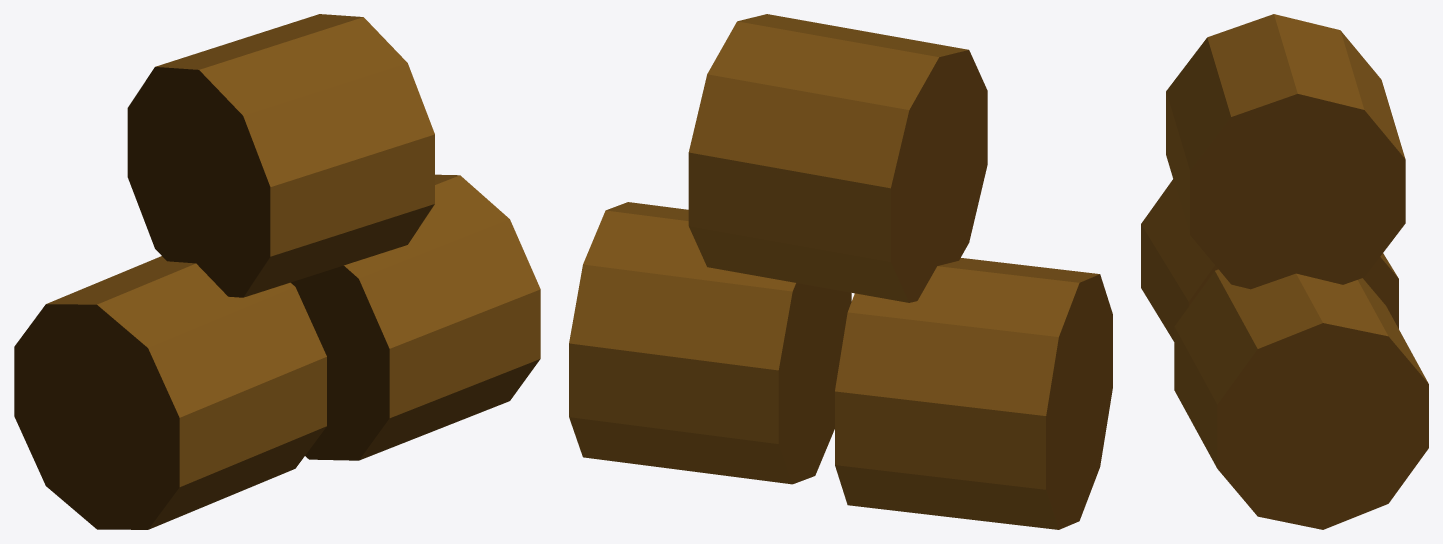
Rendered from hay_bales.fbx.
3 renders of one model, left to right at view 1: azimuth 30°, elevation 25°; view 2: azimuth 150°, elevation 25°; view 3: azimuth 270°, elevation 25°, orthographic. The views are drawn at different scales.
Parts seen in each view (by area): view 1: hay_bales; view 2: hay_bales; view 3: hay_bales.
Part boxes in pixels (box(x1,y1,x2,y2)): hay_bales: box(14, 14, 540, 529); hay_bales: box(569, 14, 1112, 529); hay_bales: box(1141, 14, 1428, 529).
Size of the model in its own units: 3.04 by 2.69 by 1.82.
